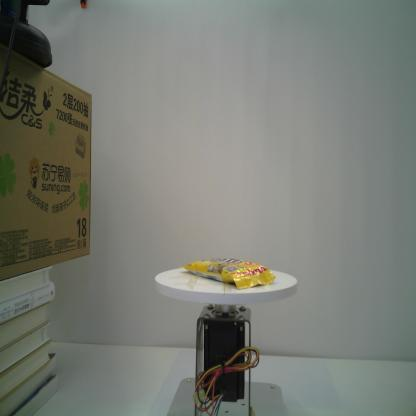Chocolate: (180, 257, 276, 290)
